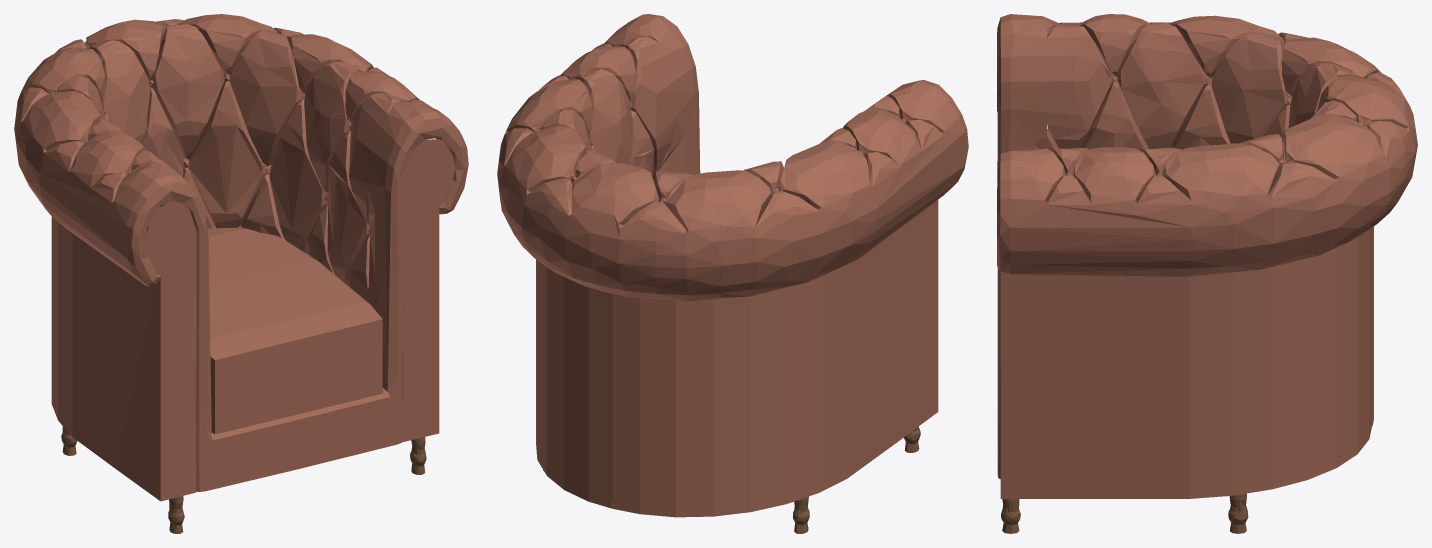
The model's file is sh-bs0-winchester-armchair.glb.
3 views of the same model, side by side, from view 1: azimuth 30°, elevation 25°; view 2: azimuth 150°, elevation 25°; view 3: azimuth 270°, elevation 25° (orthographic). The views are drawn at different scales.
Parts seen in each view (by area): view 1: Sphere, Circle.006_Circle.007; view 2: Sphere, Circle.006_Circle.007; view 3: Sphere, Circle.006_Circle.007.
Boxes of the visible parts, <box> form: Sphere: <box>14,14,468,501</box>; Circle.006_Circle.007: <box>61,426,426,533</box>; Sphere: <box>497,14,968,517</box>; Circle.006_Circle.007: <box>543,426,920,533</box>; Sphere: <box>997,14,1417,498</box>; Circle.006_Circle.007: <box>1001,493,1248,533</box>.
Size of the model in its own units: 0.9971 by 1 by 1.
